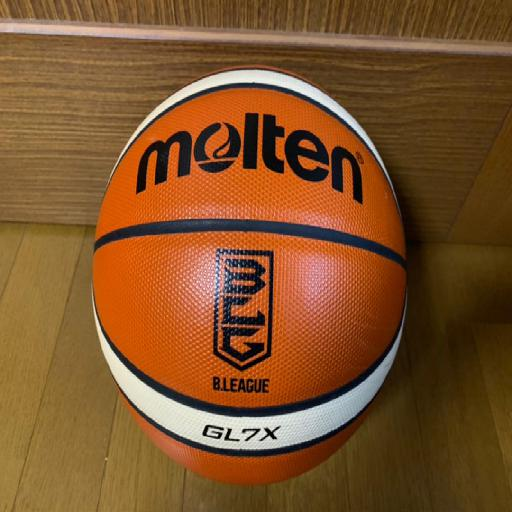ball: (92, 66, 409, 486)
